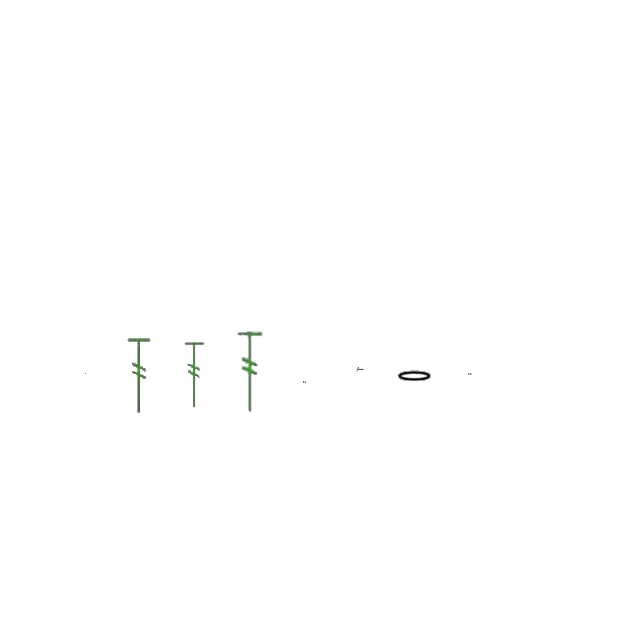chain: (396, 370, 434, 384), (468, 373, 472, 375), (304, 381, 306, 383), (84, 374, 86, 374)
enseble_chain: (356, 368, 364, 372)
fan: (236, 330, 264, 414), (126, 336, 154, 416), (182, 339, 208, 411)
